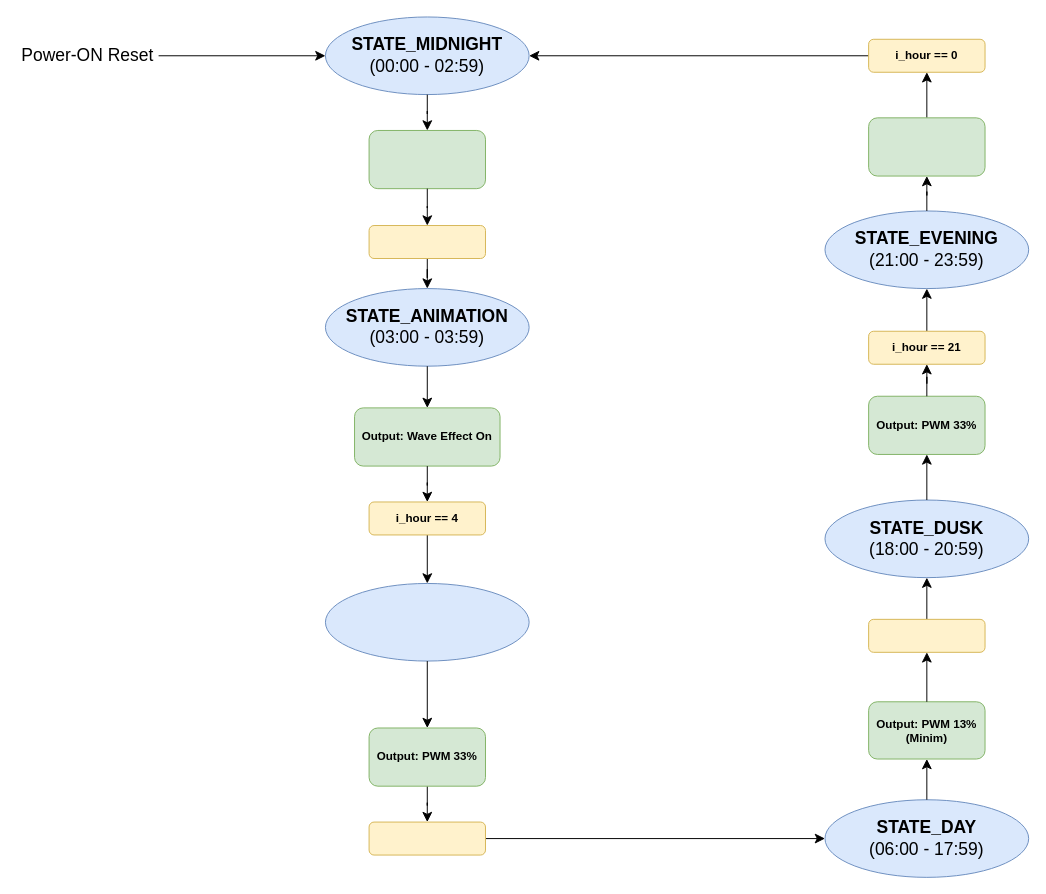
The diagram is 1046 pixels wide and 894 high, and some of its shapes have lost their labels. The box of each missing label's shape, as (x1, y1, x2, y2) in pixels:
i_hour == 18: (868, 618, 985, 652)
i_hour == 3: (368, 225, 485, 259)
i_hour == 6: (368, 821, 485, 855)
Output: PWM 100%: (368, 129, 485, 189)
Output: PWM 66%: (868, 117, 985, 176)
STATE_PRE_DAWN (04:00 - 05:59): (324, 582, 529, 661)
